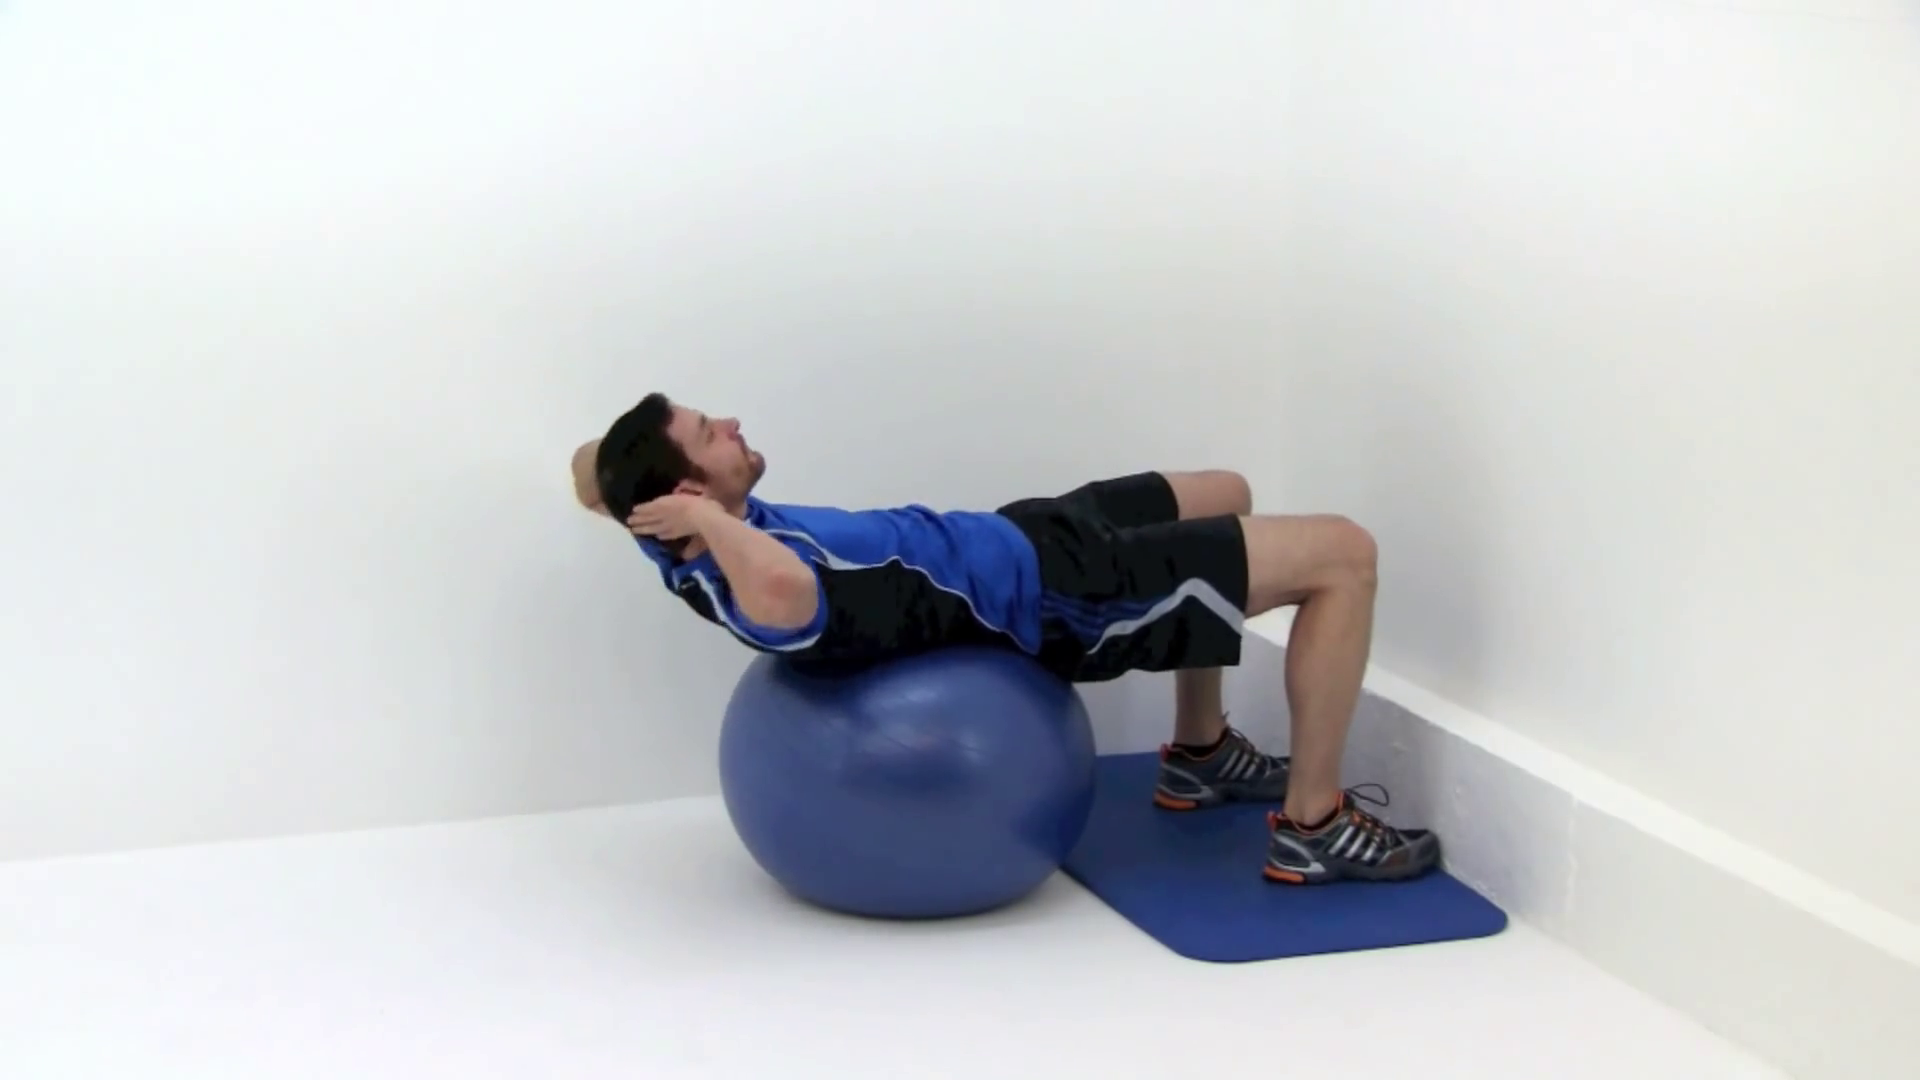yogaball: (700, 622, 1112, 930)
